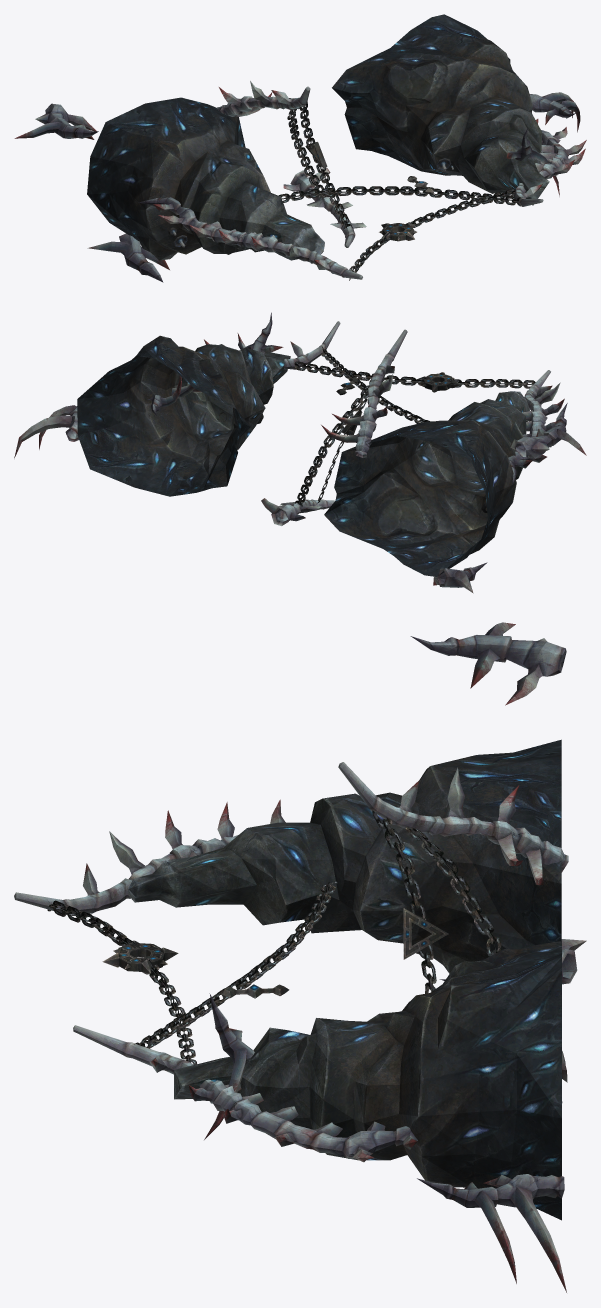
The model's file is juqing_yewai_563_jt01.obj.
3 renders of one model, top to bottom at view 1: azimuth 30°, elevation 25°; view 2: azimuth 150°, elevation 25°; view 3: azimuth 270°, elevation 25°, orthographic. The views are drawn at different scales.
Parts seen in each view (by area): view 1: juqing_yewai_563_jt01; view 2: juqing_yewai_563_jt01; view 3: juqing_yewai_563_jt01.
Boxes of the visible parts, x1,y1,x2,y2 form: juqing_yewai_563_jt01: (14, 14, 586, 282); juqing_yewai_563_jt01: (14, 312, 586, 593); juqing_yewai_563_jt01: (14, 622, 586, 1292).
Bounding box in the file's own units: 2474 × 837 × 1318.
9 materials, 9 textured.
